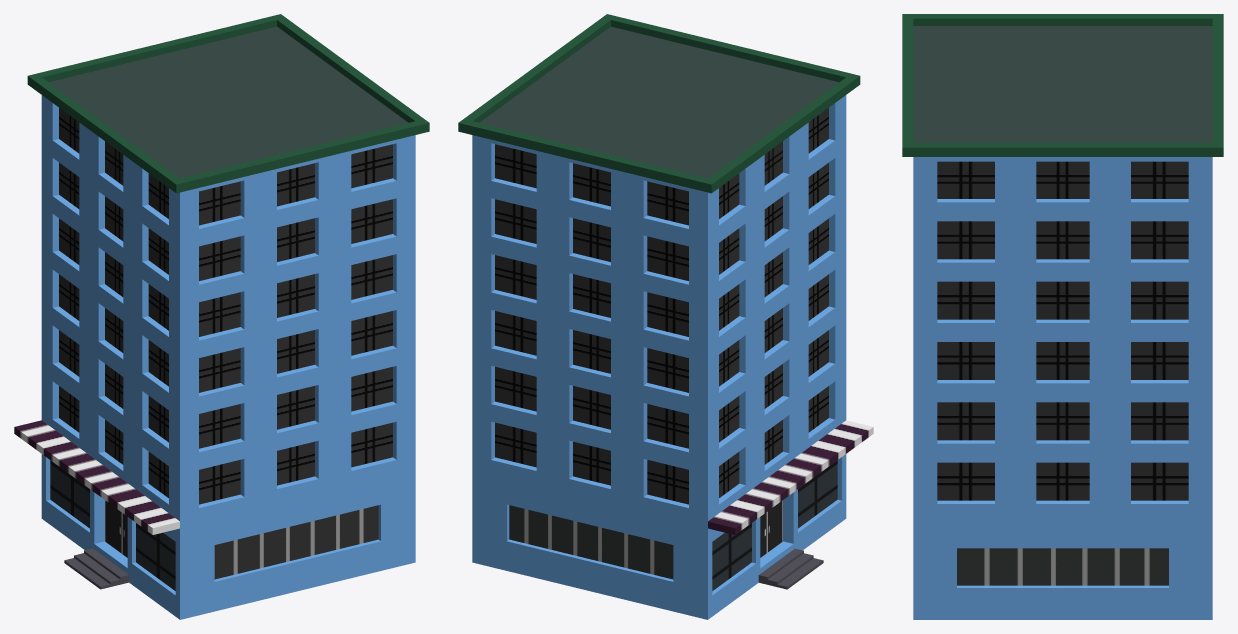
File: building19b.FBX
The picture shows the model from 3 angles, left to right: view 1: azimuth 30°, elevation 25°; view 2: azimuth 150°, elevation 25°; view 3: azimuth 270°, elevation 25°; orthographic projection. The views are drawn at different scales.
Visible parts, largest first — view 1: building19b; view 2: building19b; view 3: building19b.
Part boxes in pixels (bbox=[...]): building19b: bbox=[14, 14, 429, 619]; building19b: bbox=[458, 14, 873, 619]; building19b: bbox=[902, 14, 1223, 619].
Bounding box in the file's own units: 23.1 × 35.71 × 21.81.
